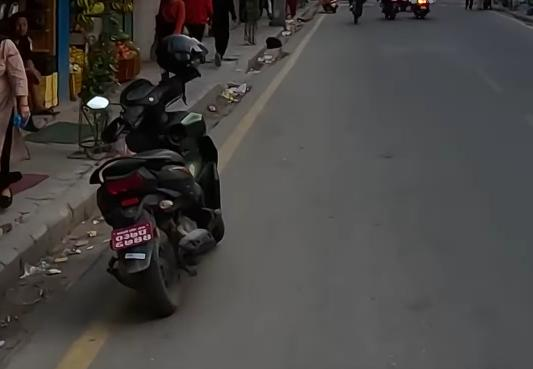scooter: (82, 66, 236, 317)
